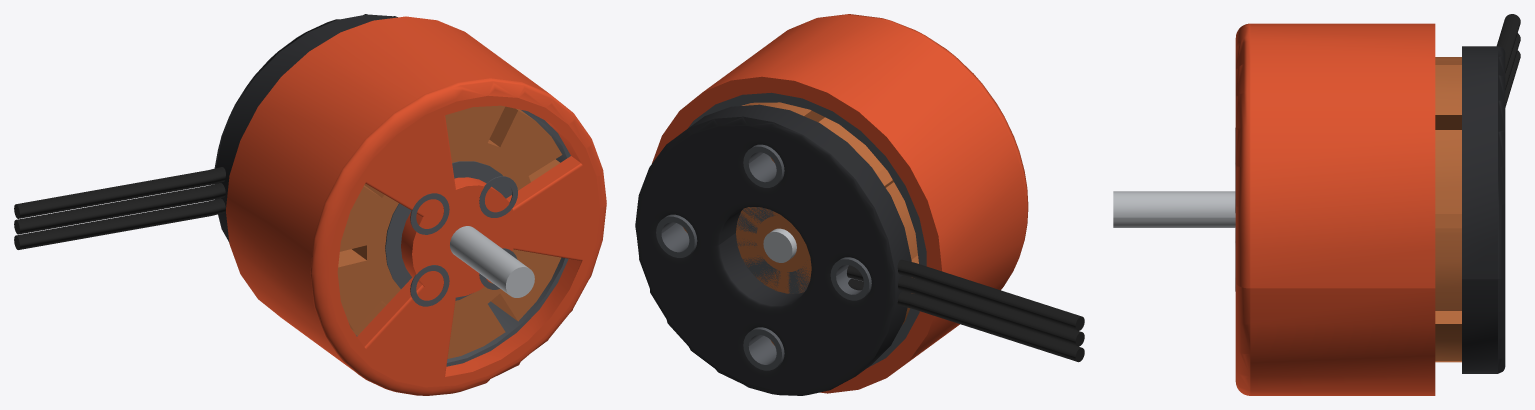
File: betafpv-1104-5500kv.glb
The picture shows the model from 3 angles, left to right: view 1: azimuth 30°, elevation 25°; view 2: azimuth 150°, elevation 25°; view 3: azimuth 270°, elevation 25°; orthographic projection. The views are drawn at different scales.
Parts seen in each view (by area): view 1: bell, stator_windings, base, lead_3, lead_1, lead_2, shaft, stator_core, magnets, prop_hole_3, prop_hole_1, prop_hole_2; view 2: base, bell, stator_windings, magnets, lead_2, lead_1, lead_3, stator_core, mount_hole_1, mount_hole_3, mount_hole_4, mount_hole_2 (+1 smaller); view 3: bell, base, stator_windings, shaft, lead_3.
Boxes of the visible parts, x1,y1,x2,y2 form: bell: (226,16,606,395); stator_windings: (337,105,562,358); base: (214,14,397,242); lead_3: (14,167,225,218); lead_1: (14,198,225,249); lead_2: (14,183,225,234); shaft: (450,226,534,297); stator_core: (385,161,511,300); magnets: (356,110,570,366); prop_hole_3: (410,265,449,306); prop_hole_1: (479,176,517,217); prop_hole_2: (410,193,449,234); base: (635,104,911,395); bell: (652,14,1028,393); stator_windings: (683,102,918,345); magnets: (688,92,926,367); lead_2: (847,265,1084,346); lead_1: (848,279,1084,362); lead_3: (897,259,1084,330); stator_core: (737,207,810,293); mount_hole_1: (743,144,784,187); mount_hole_3: (743,327,784,370); mount_hole_4: (656,214,697,257); mount_hole_2: (830,257,871,300); bell: (1235,23,1435,395); base: (1462,46,1505,373); stator_windings: (1435,57,1461,362); shaft: (1113,191,1235,227); lead_3: (1496,14,1520,72).
Size of the model in its own units: 24.18 by 15.2 by 16.63.
